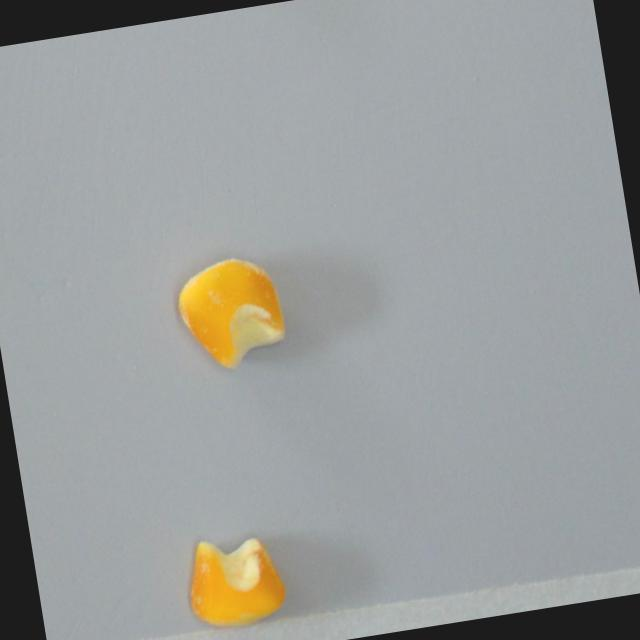pelicula: (172, 251, 293, 379), (181, 529, 291, 633)
